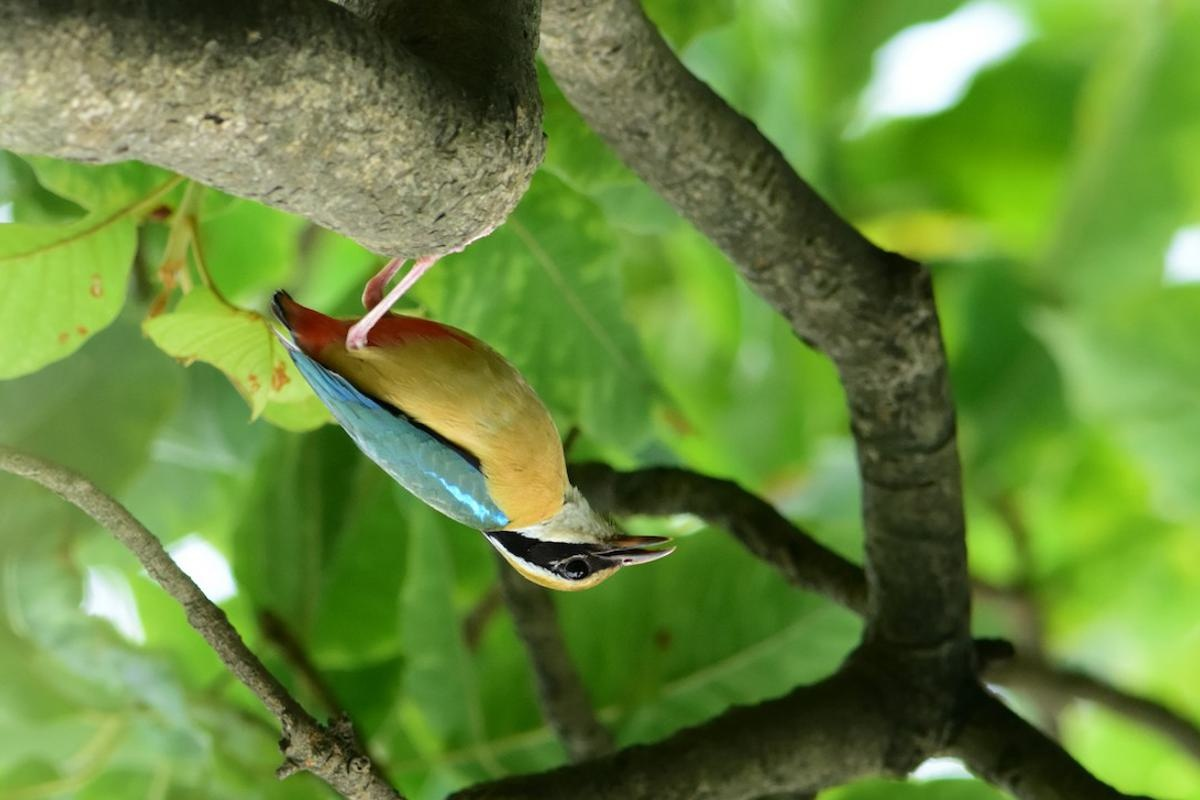pitta: (287, 251, 681, 588)
